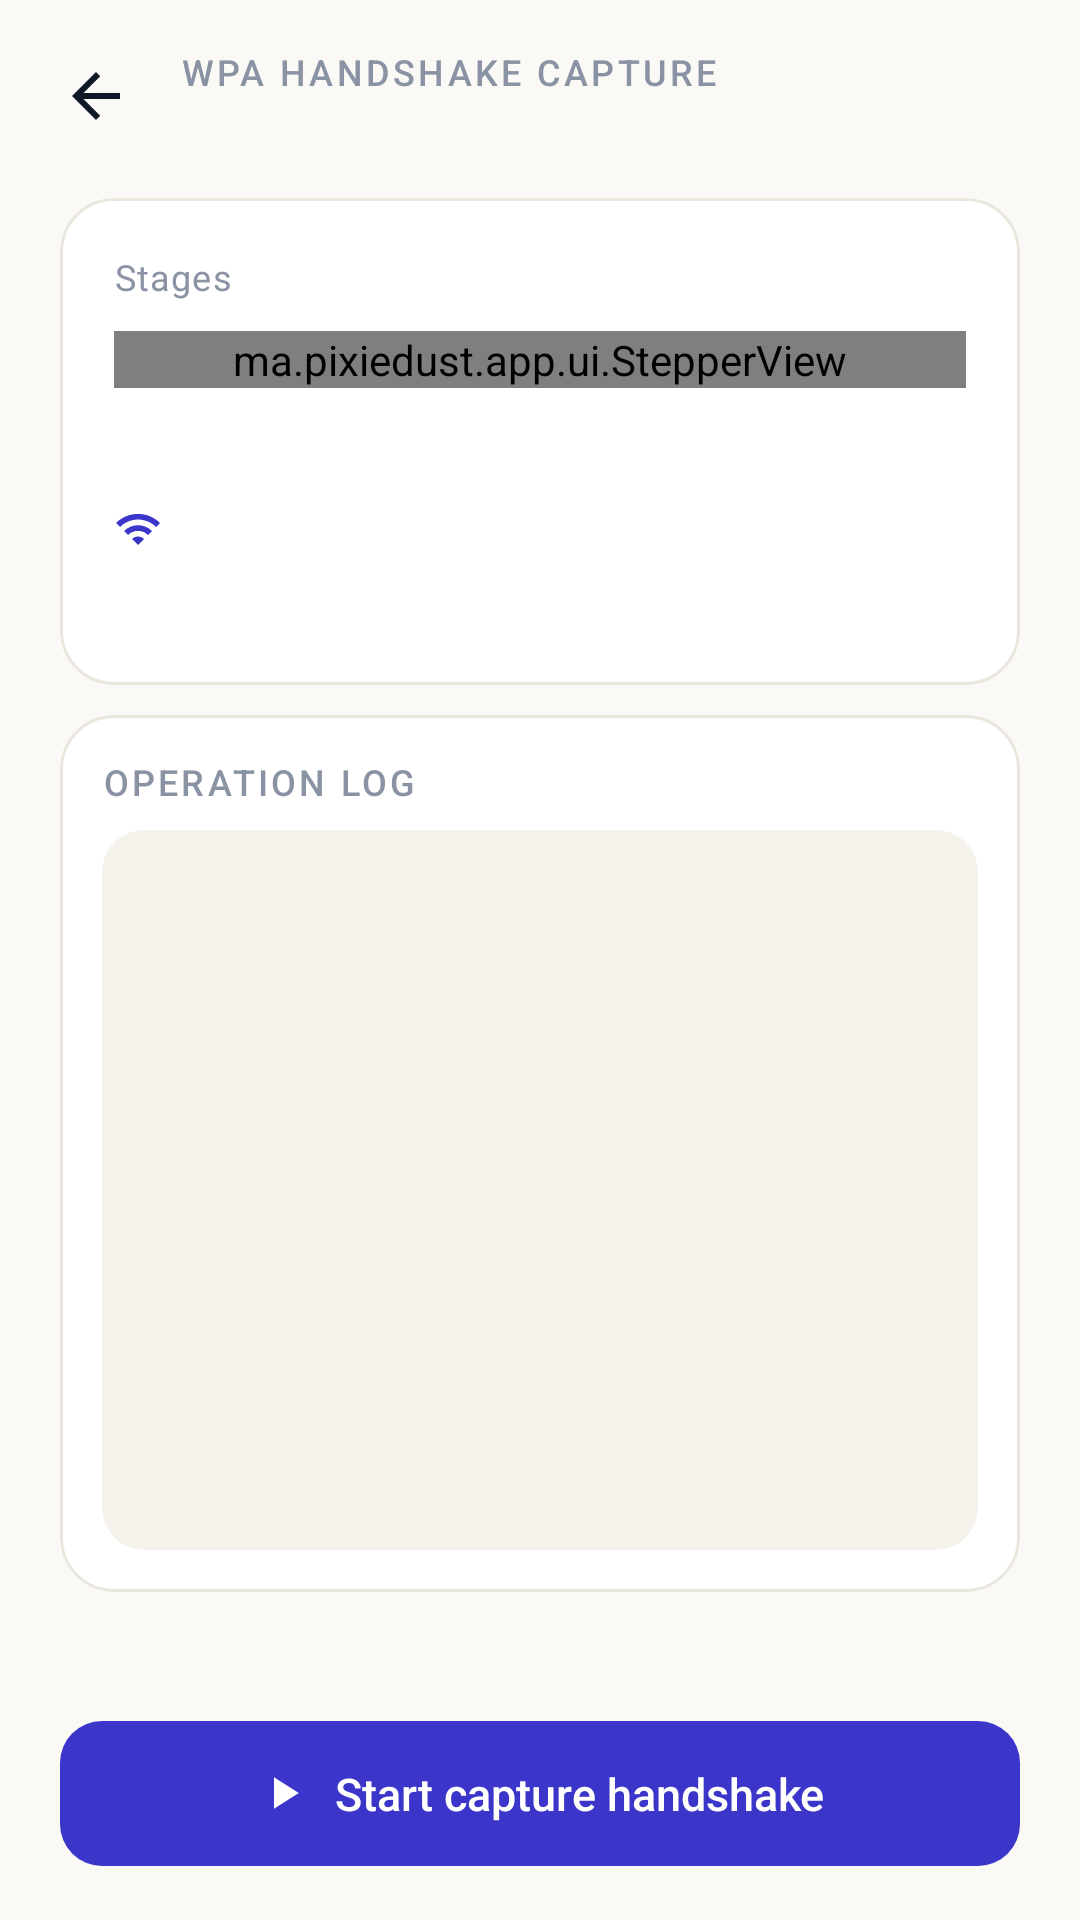

Icons on this 1080x1920 Android screen, each with its box as Rect(x1, y1, x2, y2):
Back: Rect(72, 72, 120, 120)
wifi: Rect(116, 514, 160, 545)
